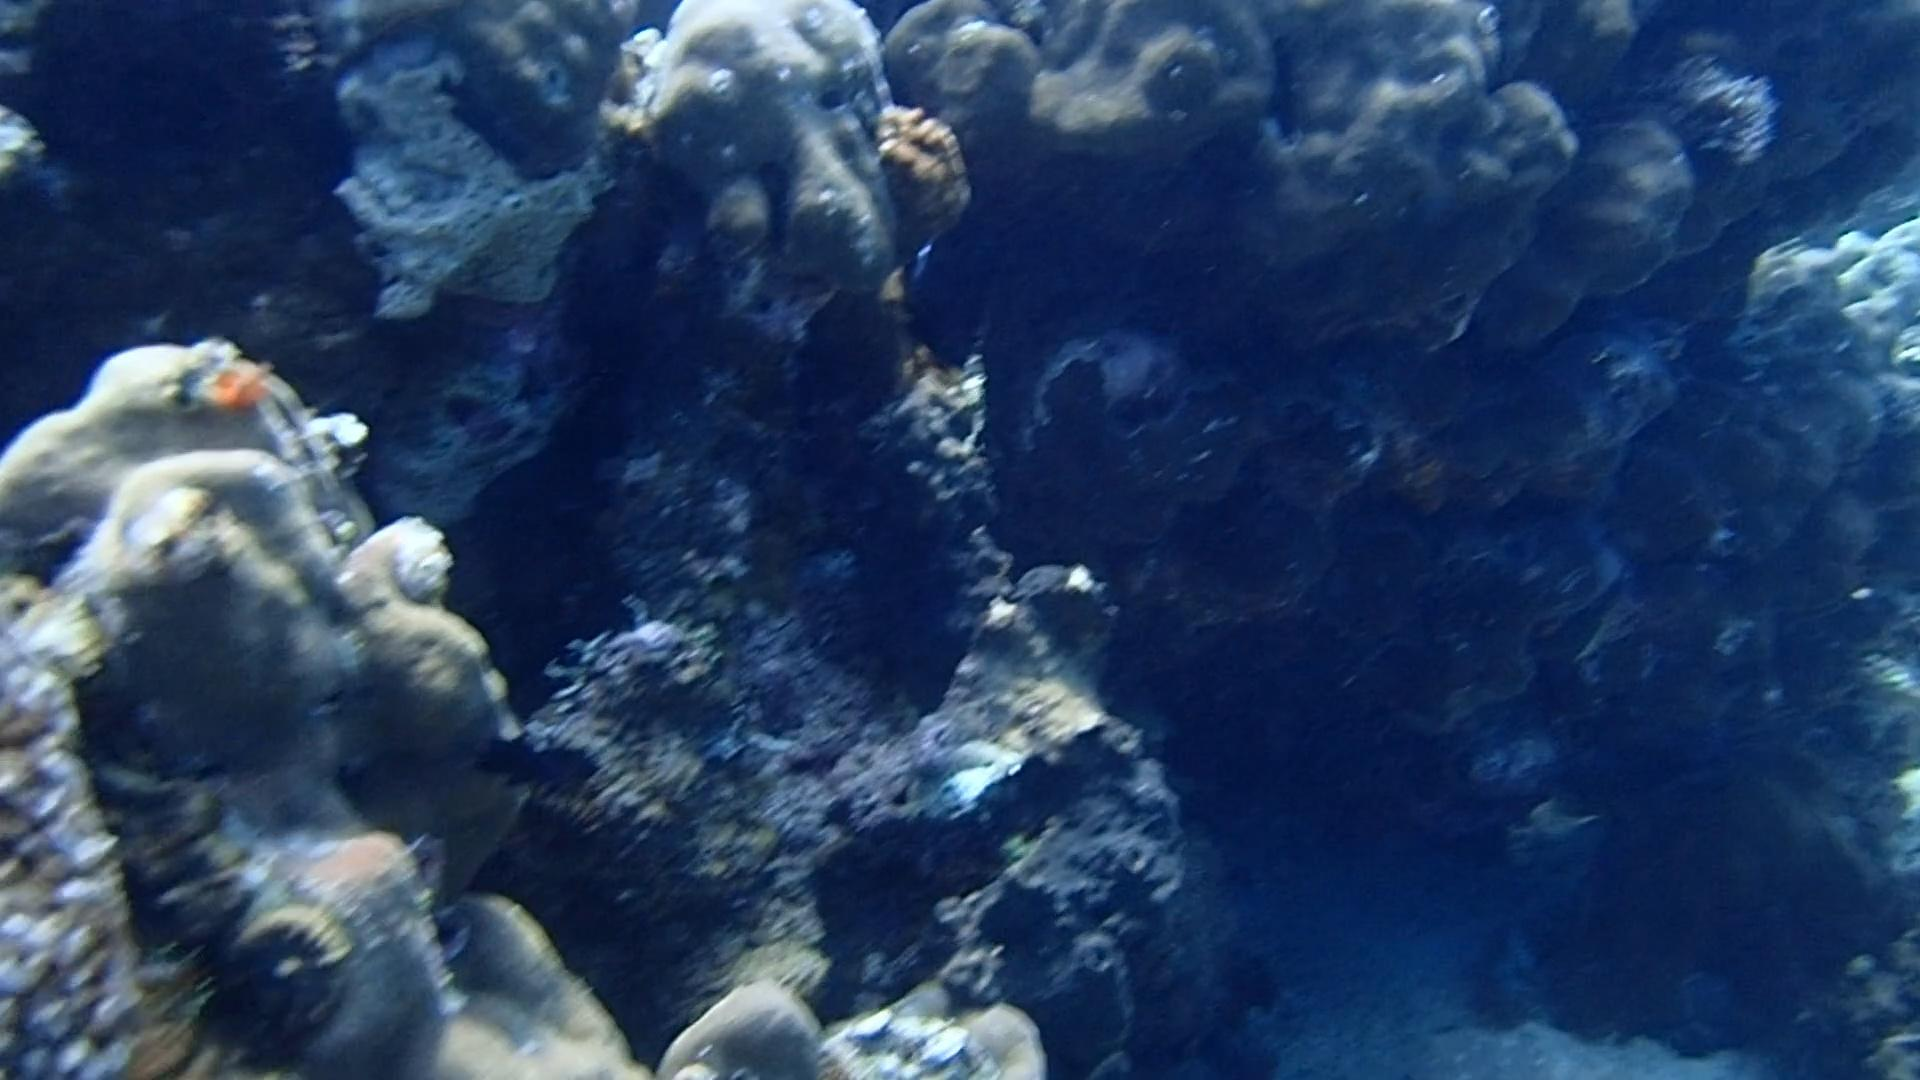Dark Fish: (464, 724, 547, 795), (518, 735, 603, 803)
